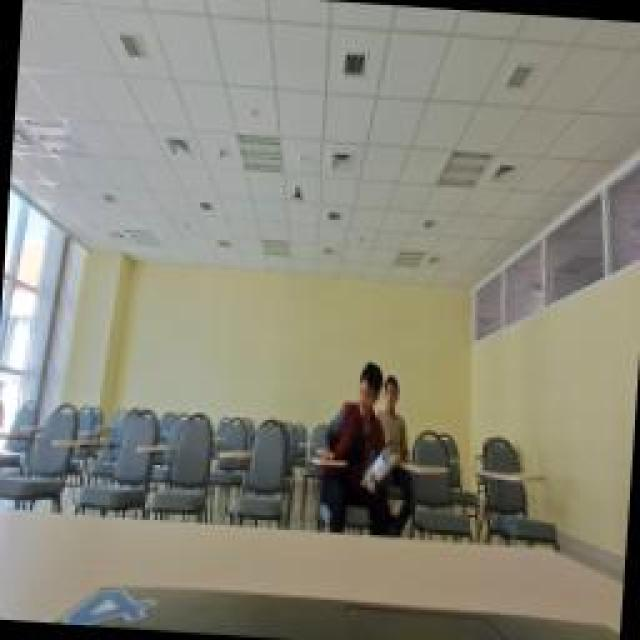study: (373, 370, 415, 458)
